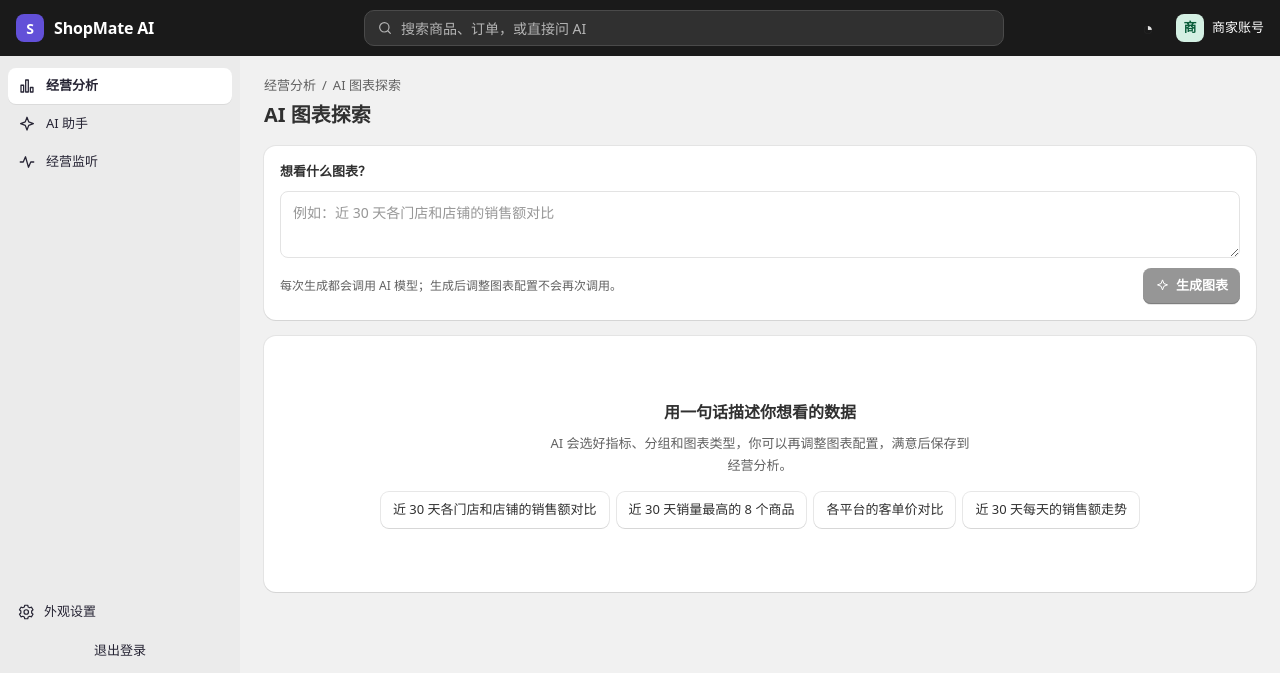
Scenario: ExploreClient › re-runs only the structured query when the config changes
This screenshot has width=1280, height=673.
Step 1. Type "各门店销售额对比" into the text box labelled "想看什么图表？" → (760, 224), box [280,191,1240,258]
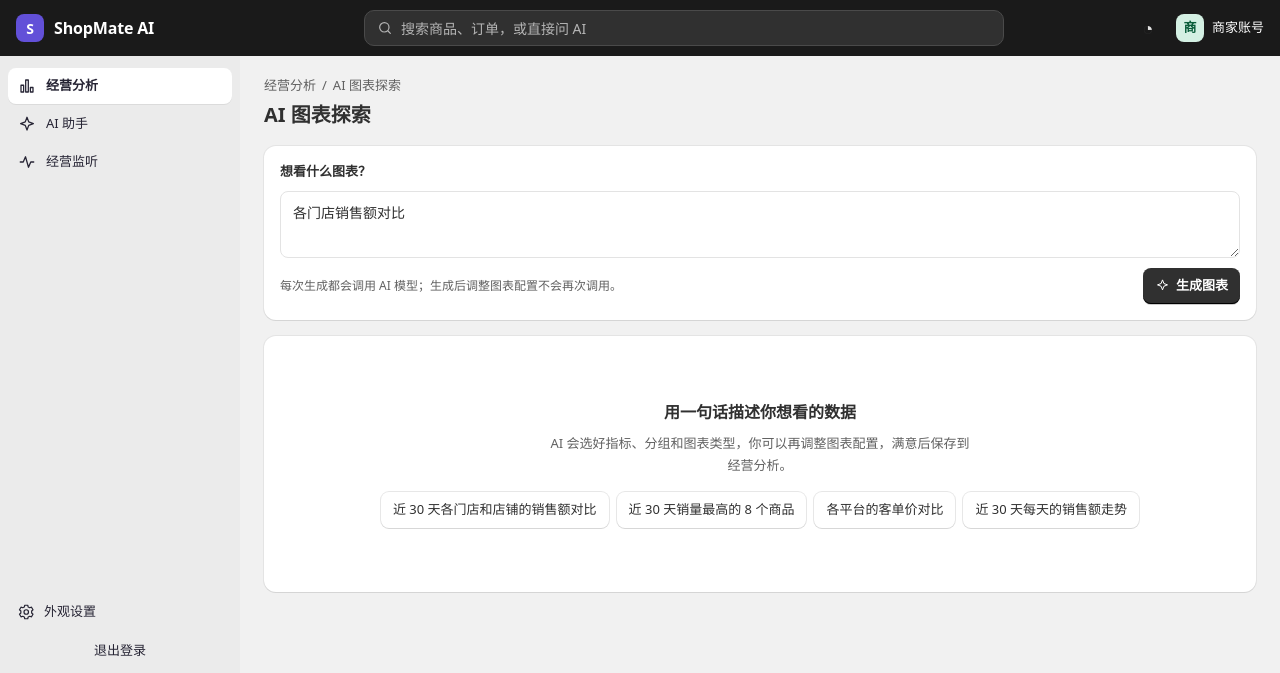
Step 2. Click the button "生成图表" → (1192, 286), box [1143,268,1240,304]
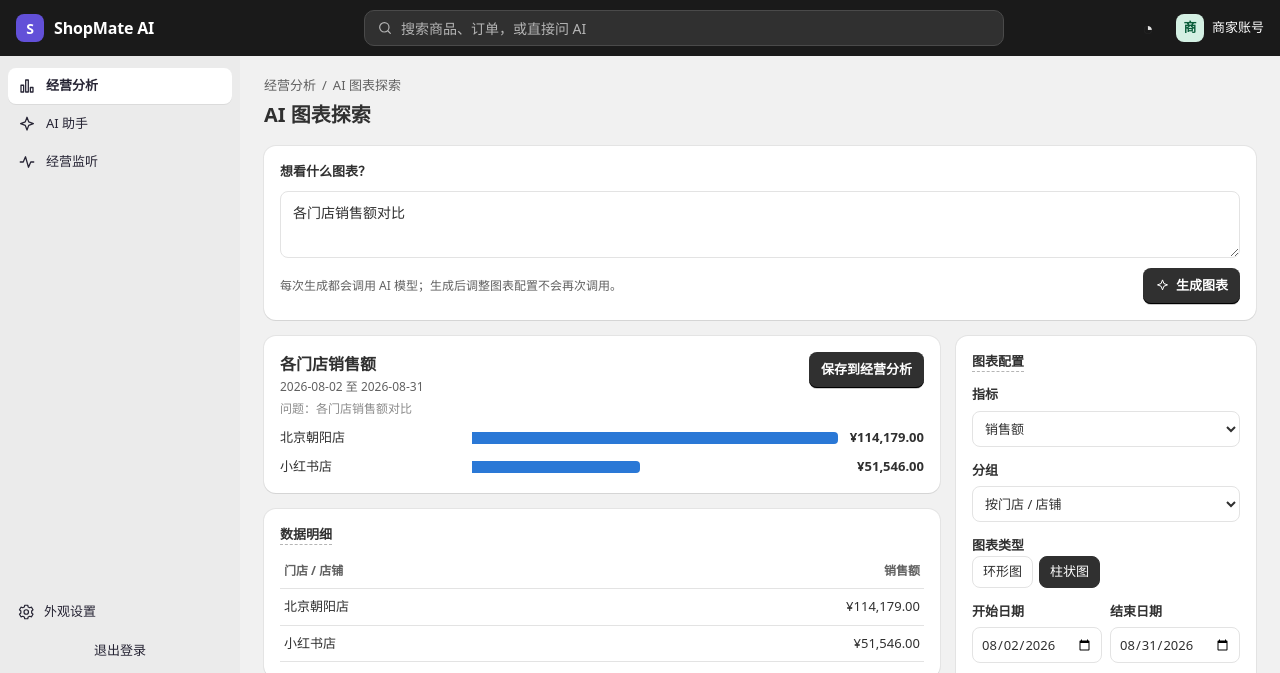
Step 3. Click the button "环形图" → (1002, 572), box [972,556,1033,588]
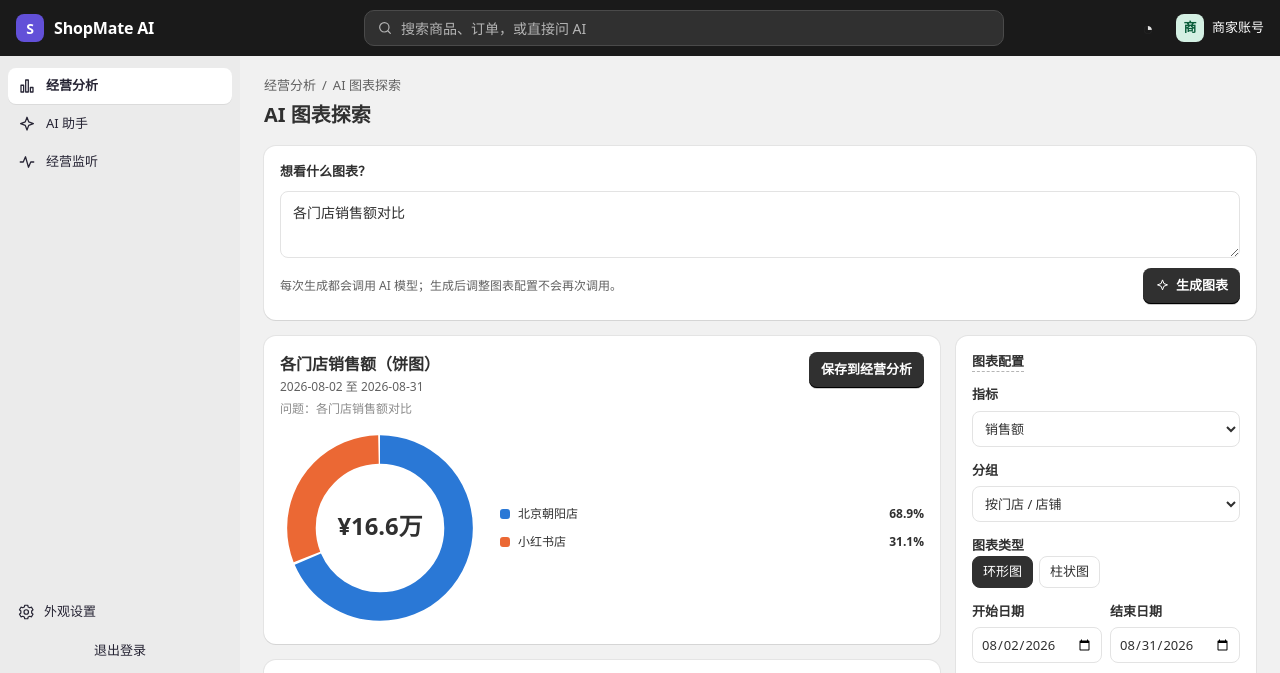
Expected: the element "各门店销售额（饼图）" is shown, [264,336,940,644]
